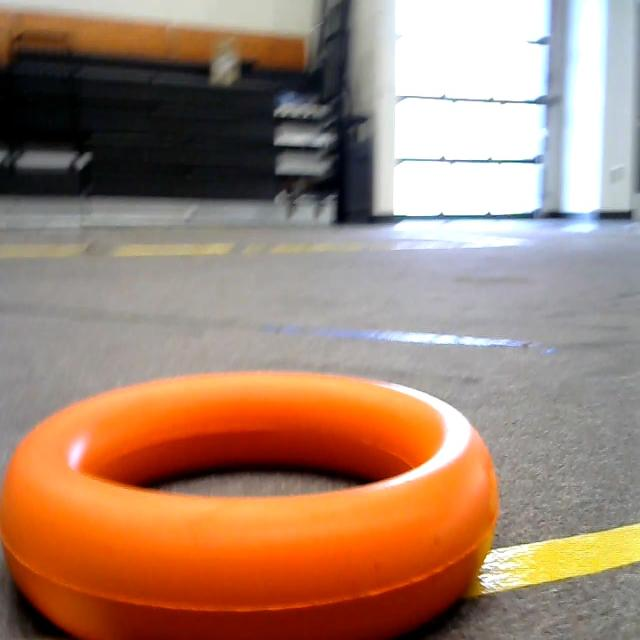note: (1, 339, 506, 640)
